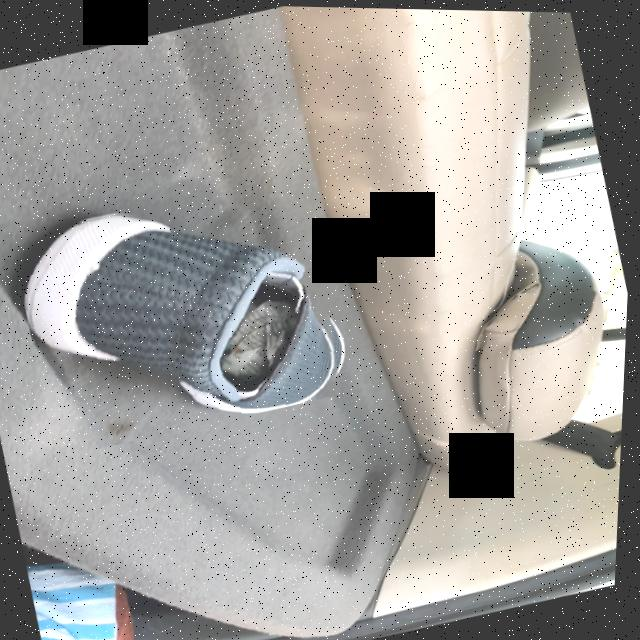shoe: (26, 214, 342, 412)
